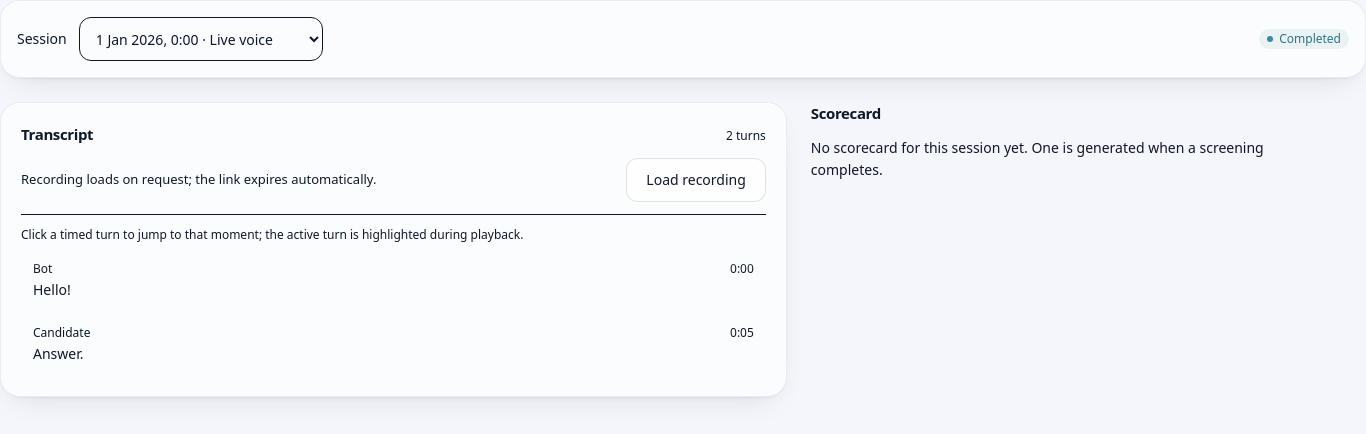
Scenario: TranscriptionSyncWorkspace › mints the URL, waits for the audio, then seeks + plays on a click made BEFORE the recording is loaded
Click the button "Candidate 0:05 Answer.".
click(62, 333)  # box [21,315,766,376]
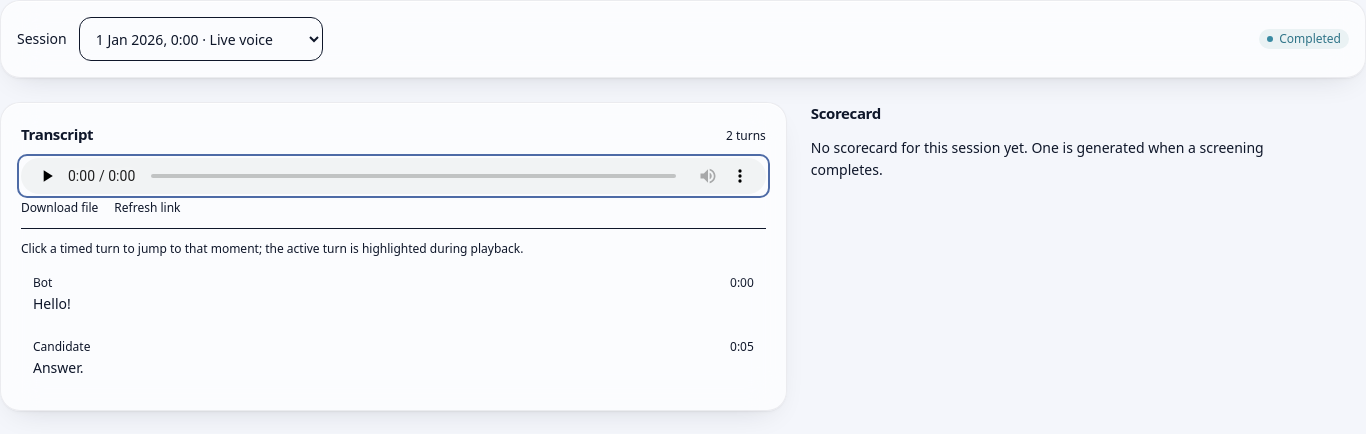
Now the element named "Session recording player" is shown, box [21,158,766,194]
